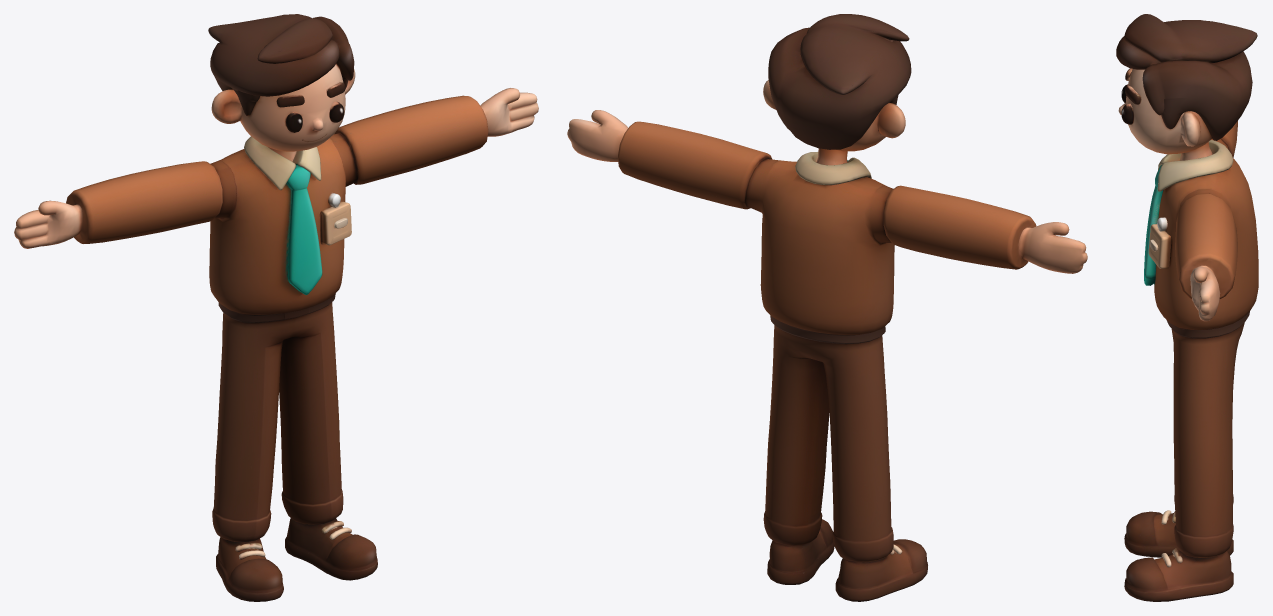
File: Male_01.fbx
The picture shows the model from 3 angles, left to right: view 1: azimuth 30°, elevation 25°; view 2: azimuth 150°, elevation 25°; view 3: azimuth 270°, elevation 25°; orthographic projection.
Parts seen in each view (by area): view 1: e8c45354_3341_4b8b_be4b_93187828d7ef; view 2: e8c45354_3341_4b8b_be4b_93187828d7ef; view 3: e8c45354_3341_4b8b_be4b_93187828d7ef.
Boxes of the visible parts, box(x1,y1,x2,y2) form: e8c45354_3341_4b8b_be4b_93187828d7ef: box(14, 14, 538, 601); e8c45354_3341_4b8b_be4b_93187828d7ef: box(567, 14, 1087, 601); e8c45354_3341_4b8b_be4b_93187828d7ef: box(1116, 14, 1258, 601).
Size of the model in its own units: 0.9878 by 0.9995 by 0.2368.
